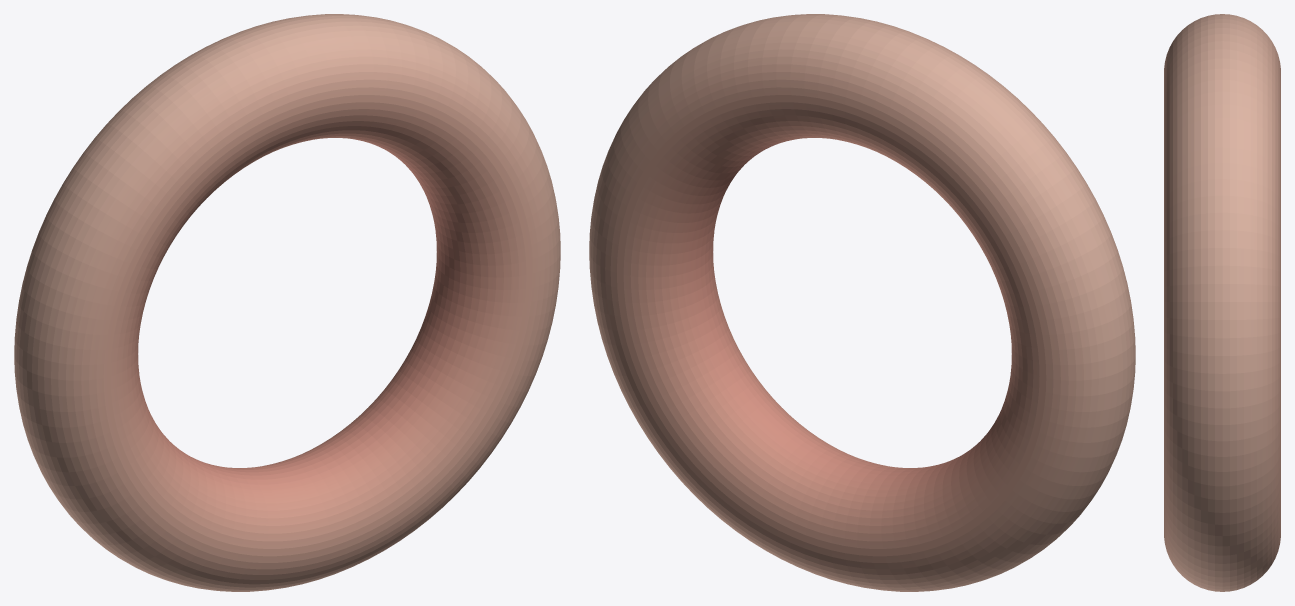
3 views of the same model, side by side, from view 1: azimuth 30°, elevation 25°; view 2: azimuth 150°, elevation 25°; view 3: azimuth 270°, elevation 25° (orthographic). The views are drawn at different scales.
Visible parts, largest first — view 1: world; view 2: world; view 3: world.
Boxes of the visible parts, x1=… form: world: x1=14, y1=14, x2=560, y2=591; world: x1=589, y1=14, x2=1135, y2=591; world: x1=1164, y1=14, x2=1280, y2=591.
Size of the model in its own units: 30.93 by 30.93 by 6.25.
